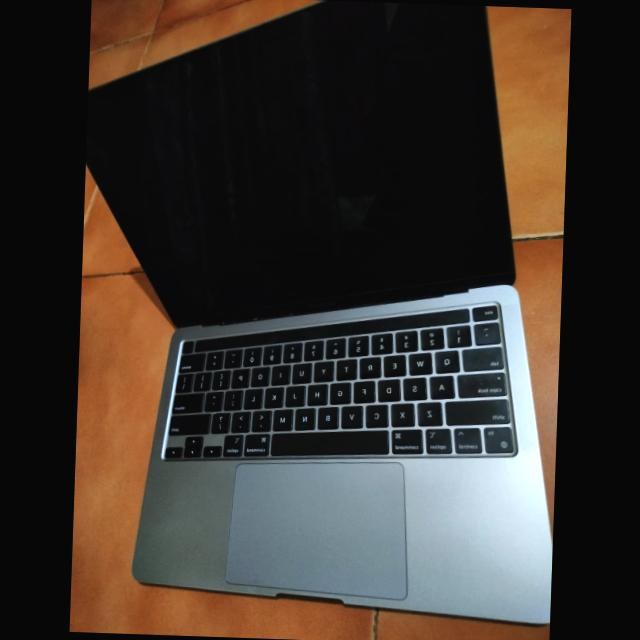laptop: (70, 0, 569, 632)
